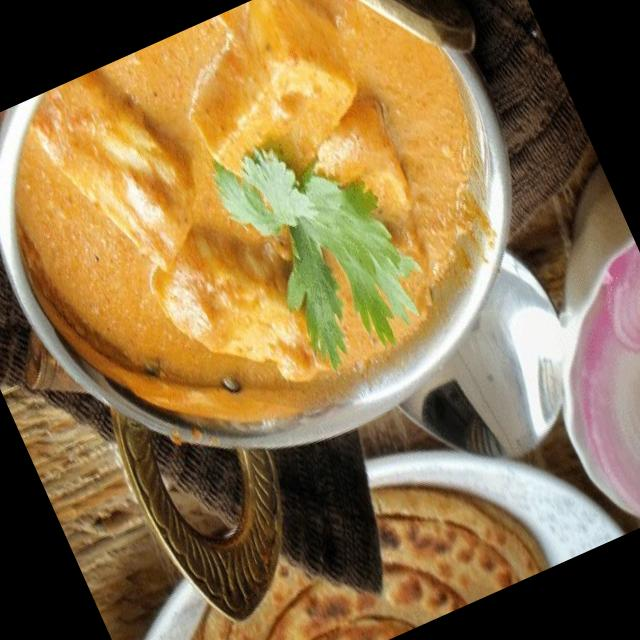ShahiPaneer: (0, 0, 547, 478)
